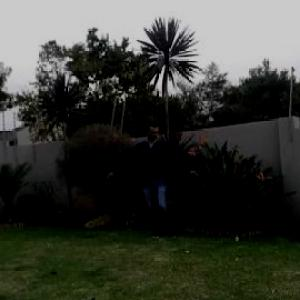land: (105, 112, 211, 248)
